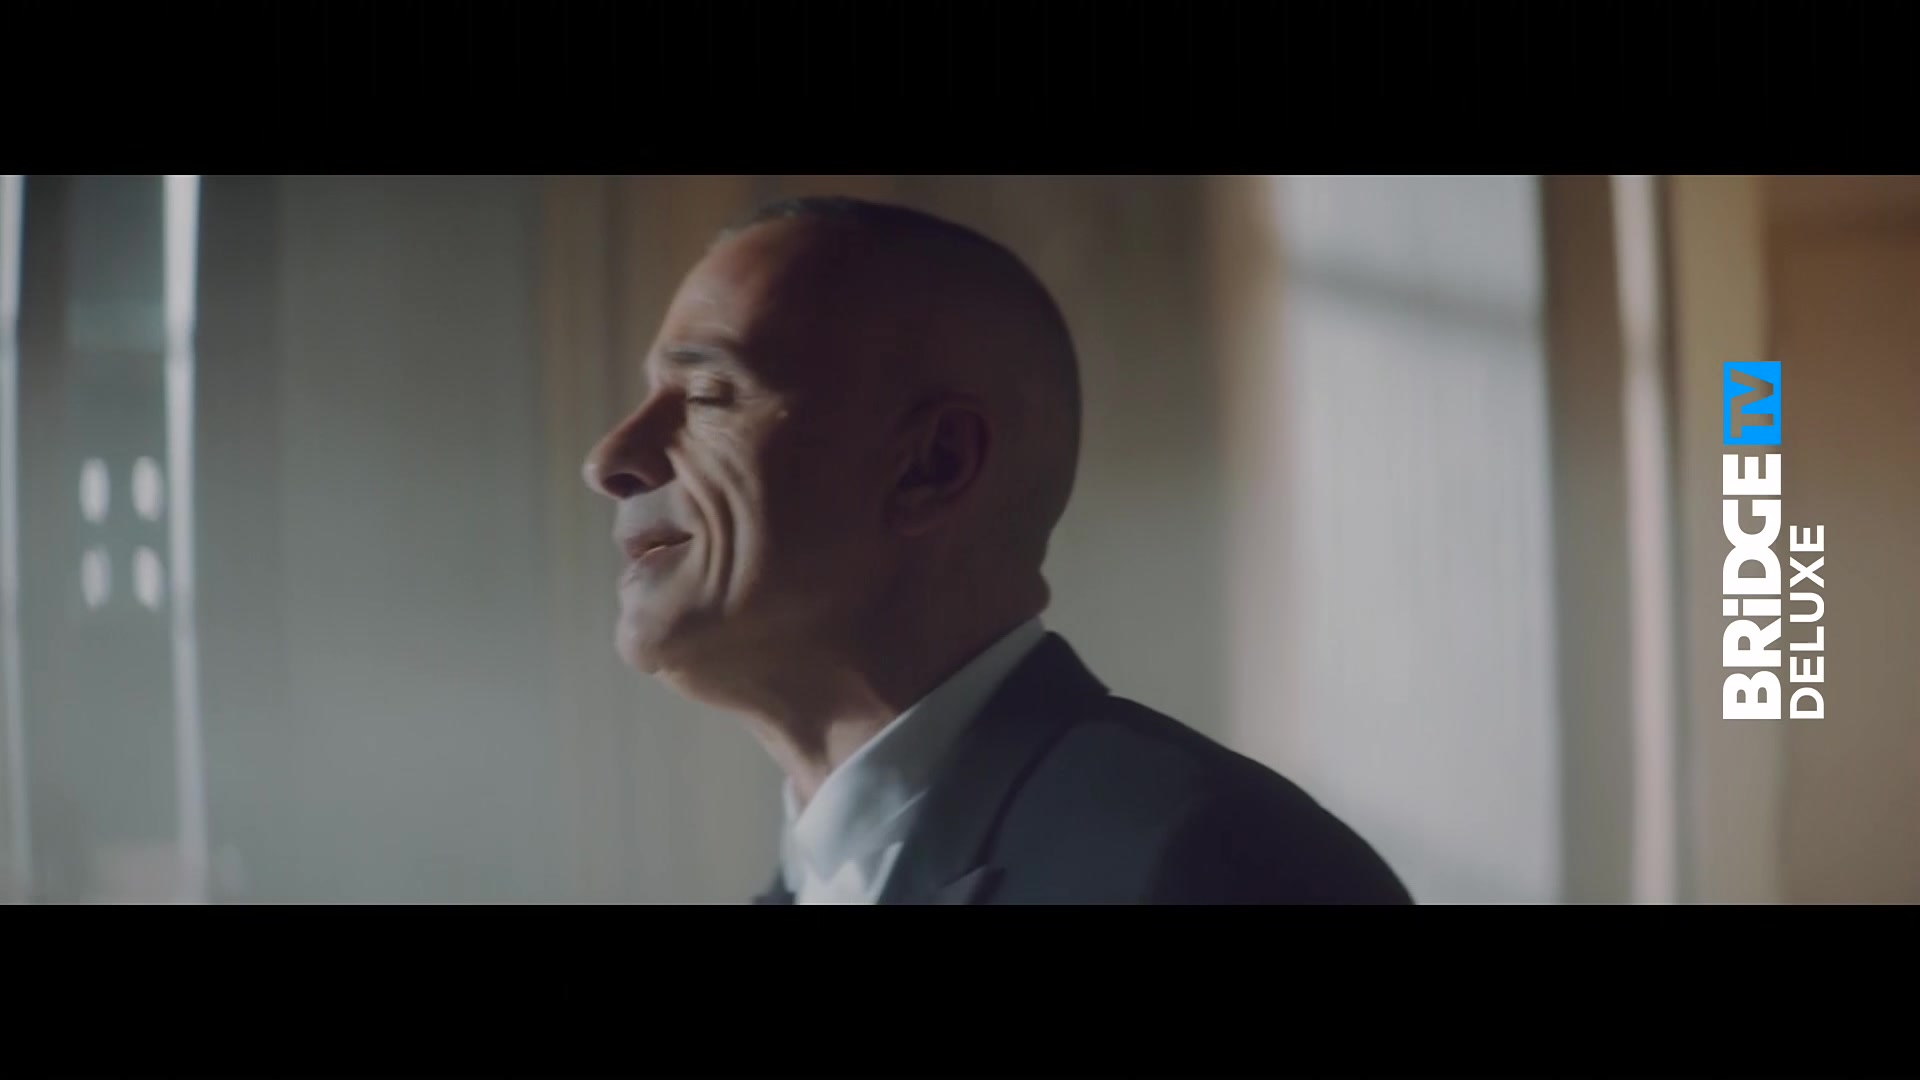Bridge_TV_Deluxe: (1716, 356, 1829, 727)
